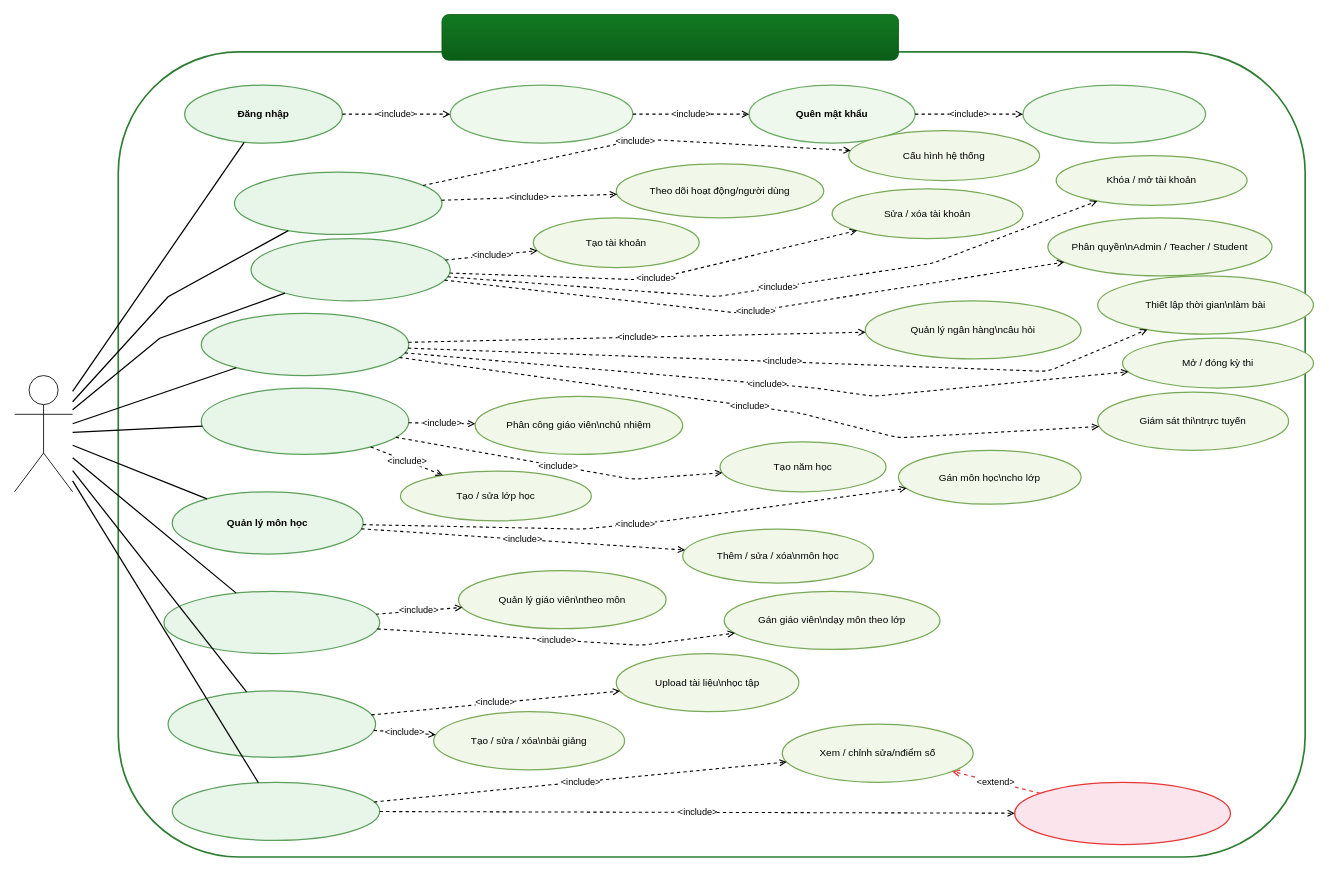
This 1329x872 diagram has some shape labels left out. Each missing label, with the centre of its shape:
Admin: [43,433]
AI chấm bài /nhận xét học tập: [1122,813]
Phân công giảng dạy: [271,622]
Quản lý bài thi & bài tập: [304,344]
Quản lý lớp học\n& năm học: [304,421]
Quản lý người dùng: [350,269]
Quản lý nội dung\nhọc tập: [271,724]
Quản lý toàn bộ hệ thống: [337,203]
Thống kê & báo cáo: [275,811]
USE CASE QUẢN TRỊ VIÊN (ADMIN): [669,37]
Xác thực tài khoản: [541,113]
Đặt lại mật khẩu: [1114,113]
